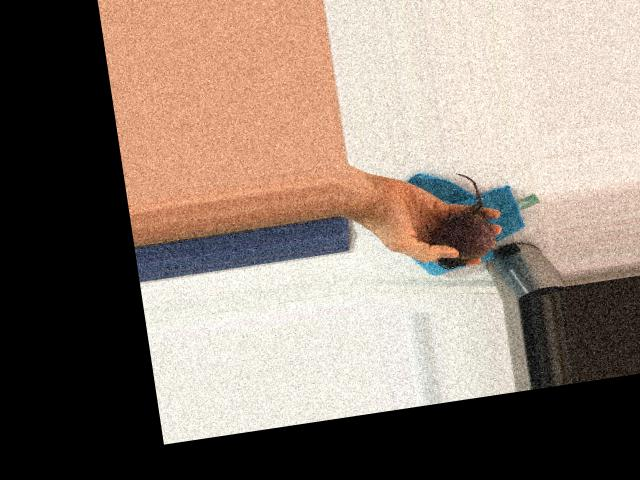beet: (419, 168, 499, 271)
